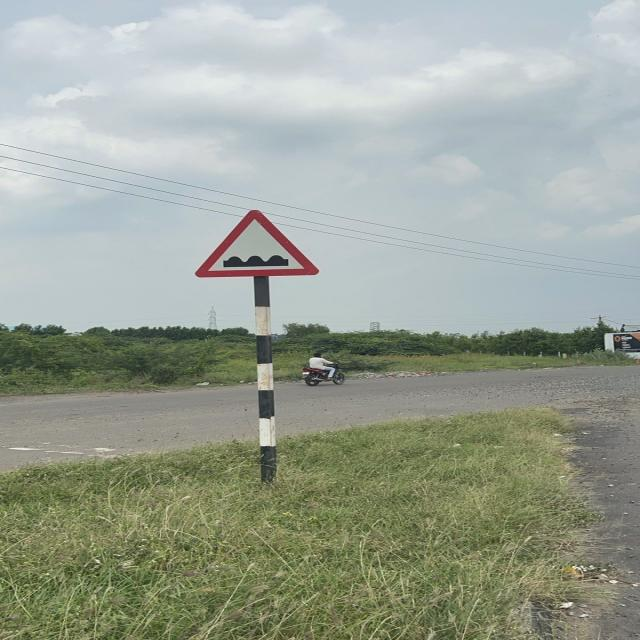Rumble_strip: (198, 212, 326, 274)
